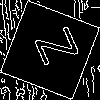Z: (25, 25, 80, 72)
